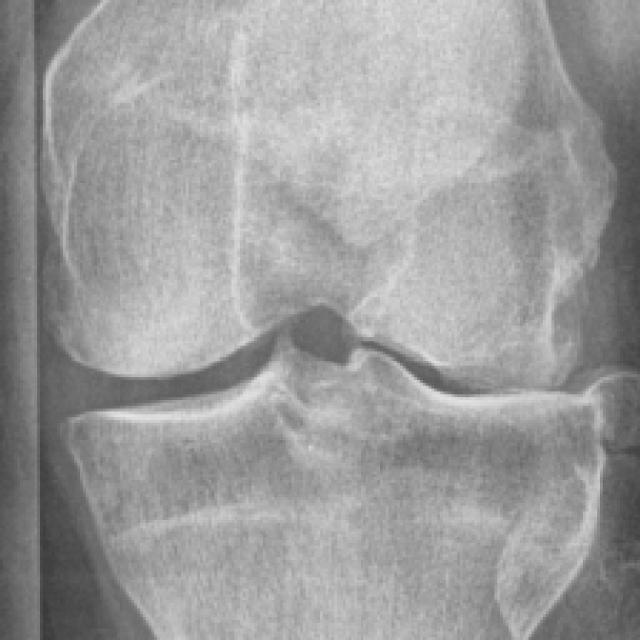femur: (40, 1, 616, 390)
tibia: (57, 337, 606, 640)
